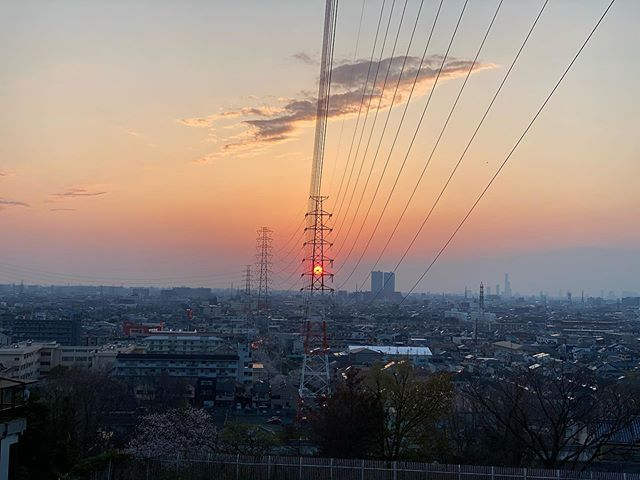building: (110, 349, 246, 403), (1, 341, 122, 386), (11, 316, 80, 347)
power pole: (301, 190, 340, 402), (251, 225, 275, 314)
sky: (1, 1, 640, 285)
tree: (459, 349, 640, 480), (344, 354, 446, 471)
